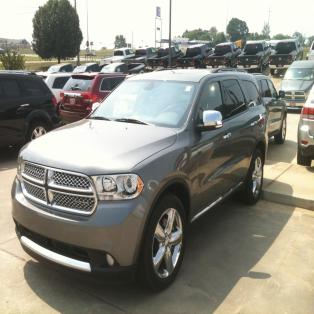Auto: (10, 69, 269, 292)
